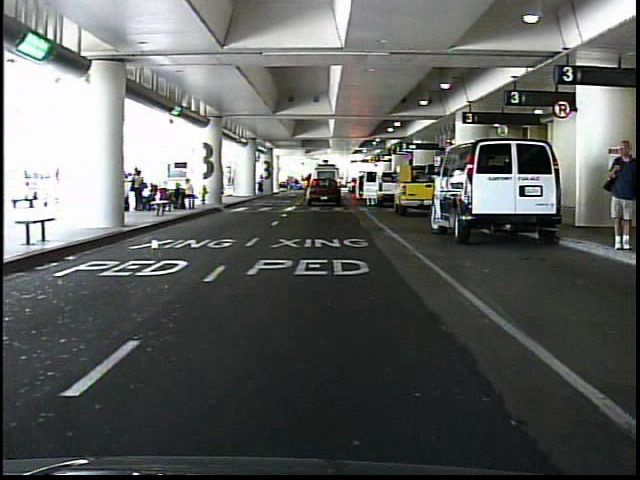person: (599, 133, 636, 255), (257, 172, 268, 196)
